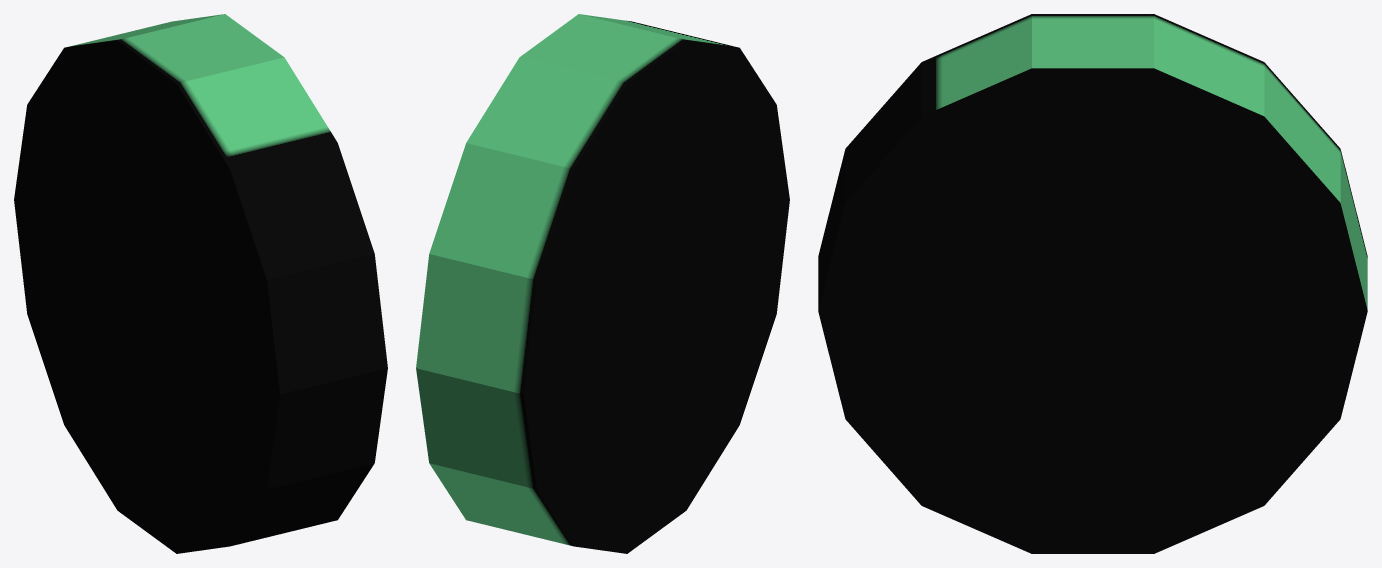
Rendered from FrontRightWheel.obj.
The picture shows the model from 3 angles, left to right: view 1: azimuth 30°, elevation 25°; view 2: azimuth 150°, elevation 25°; view 3: azimuth 270°, elevation 25°; orthographic projection. The views are drawn at different scales.
Visible parts, largest first — view 1: Front_Right_Wheel; view 2: Front_Right_Wheel; view 3: Front_Right_Wheel.
Boxes of the visible parts, bbox=[...] form: Front_Right_Wheel: bbox=[14, 14, 387, 553]; Front_Right_Wheel: bbox=[416, 14, 789, 553]; Front_Right_Wheel: bbox=[818, 14, 1367, 553].
Bounding box in the file's own units: 0.0396 × 0.1651 × 0.1693.
